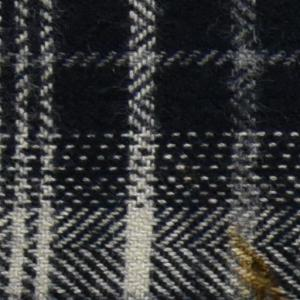Oil Stain: (225, 226, 296, 300)
